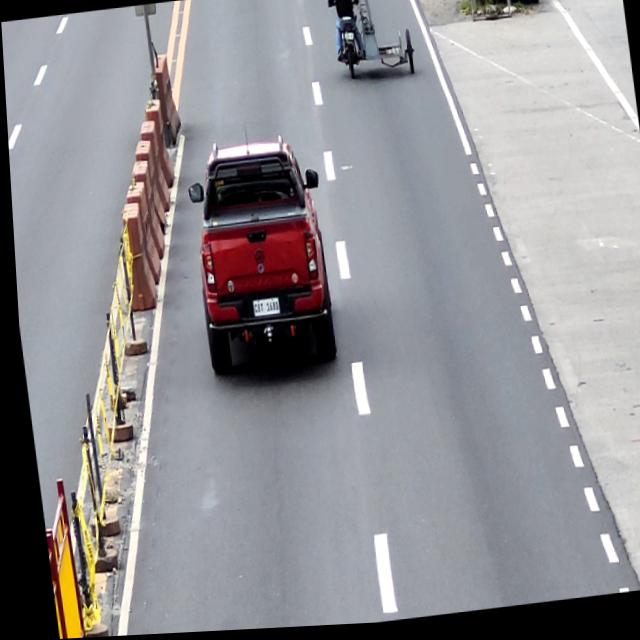Car: (181, 135, 338, 382)
License-Plate: (247, 298, 277, 320), (342, 35, 353, 45)
Tricycle: (326, 0, 417, 90)
